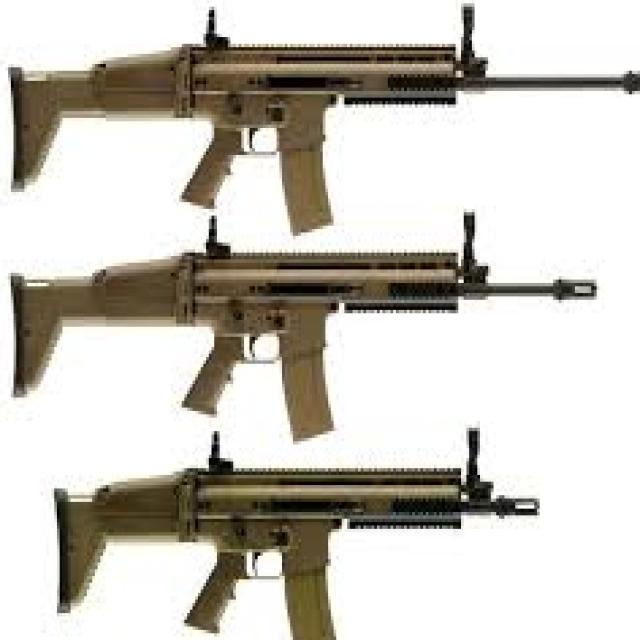Gun: (0, 0, 640, 232), (9, 198, 611, 438), (1, 411, 550, 640)
